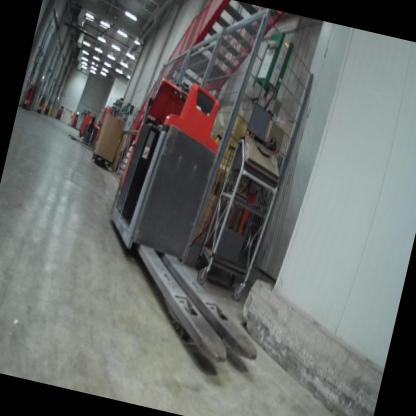pallet_truck: (78, 68, 317, 381), (66, 109, 104, 152), (19, 83, 39, 114), (31, 92, 48, 118)
